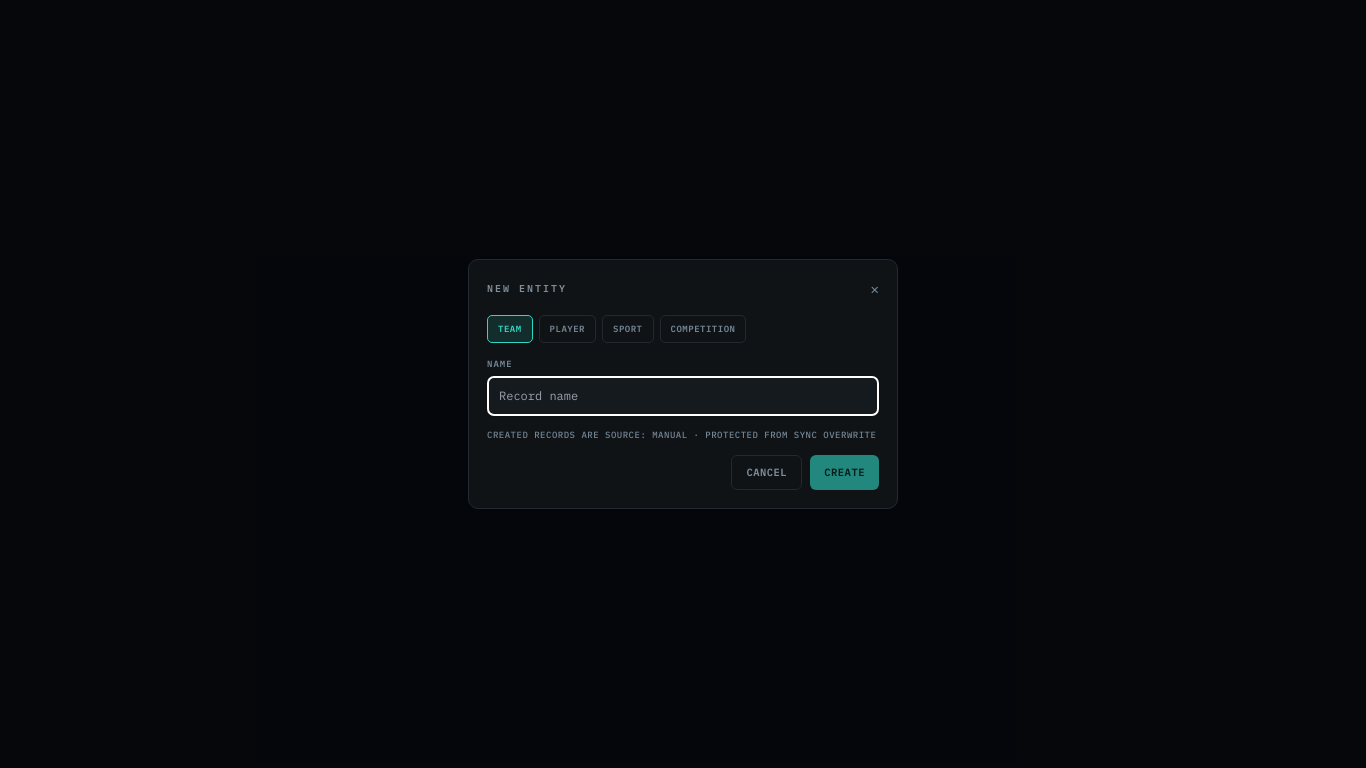
RegistryCreateModal — error contract (409 duplicate vs generic) › non-409 → generic inline error; CREATE re-enabled
The image size is (1366, 768).
Type "Riverside United" into the field with test id "ops-create-name" at (683, 396), box [487,376,879,416]
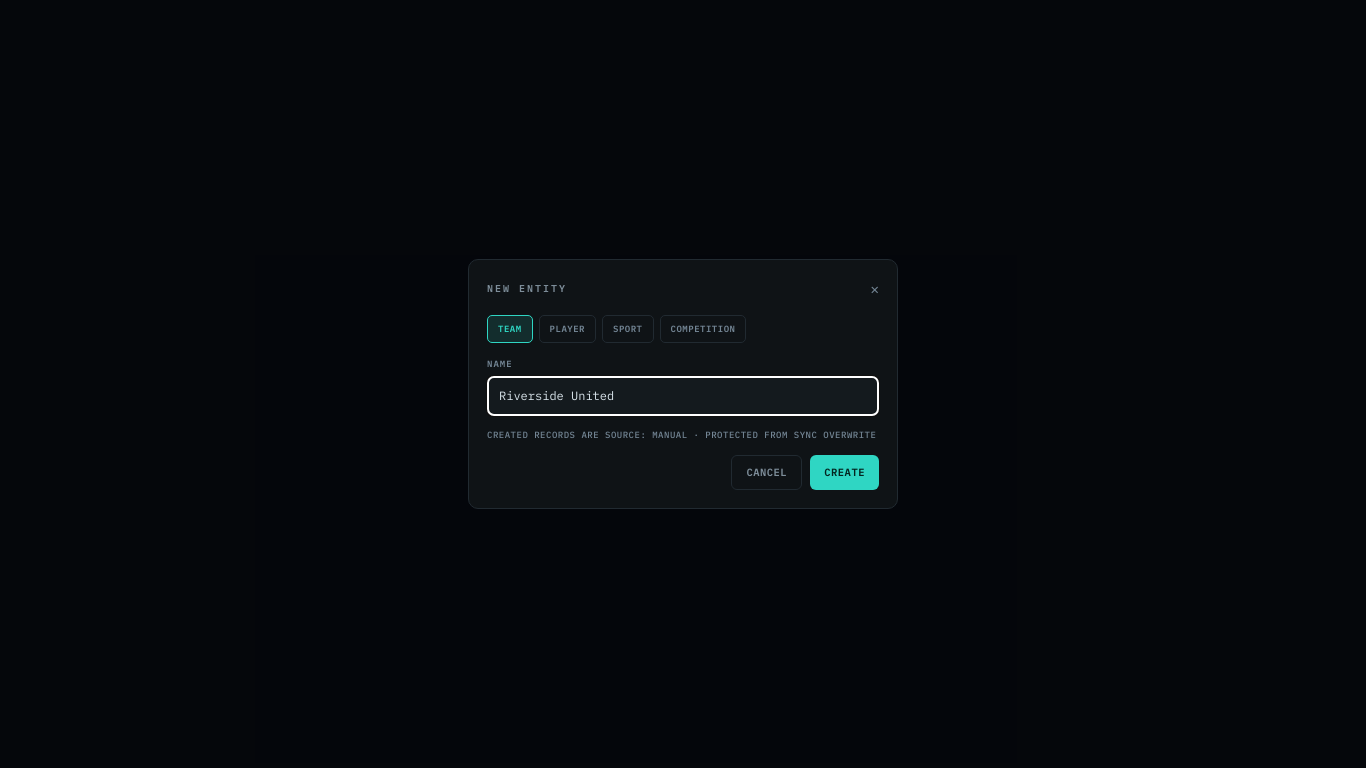
Click the button with test id "ops-create-submit" at (845, 472), box [810,455,879,490]
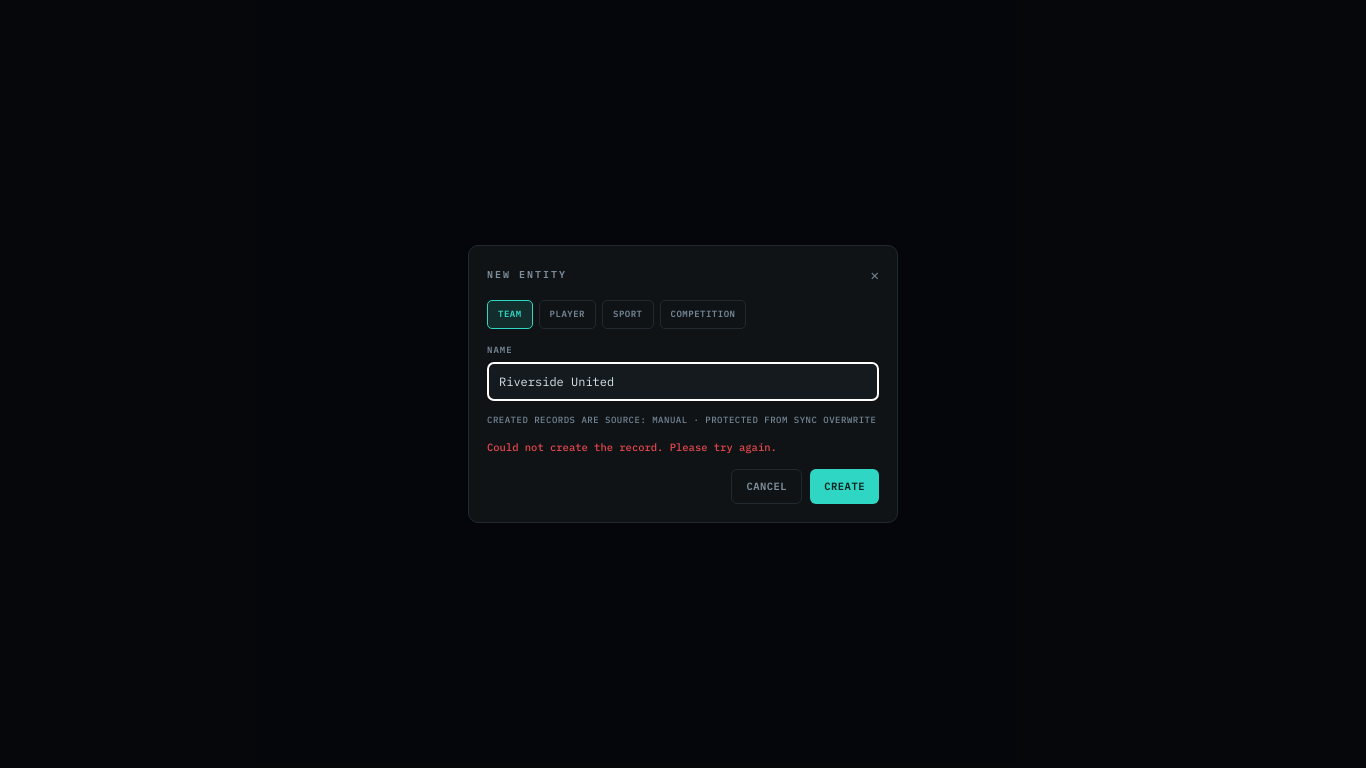
Expected: the button with test id "ops-create-submit" is enabled, [810,469,879,504]
Expected: the text with test id "ops-create-error" shows "Could not create the record", [487,440,777,454]
